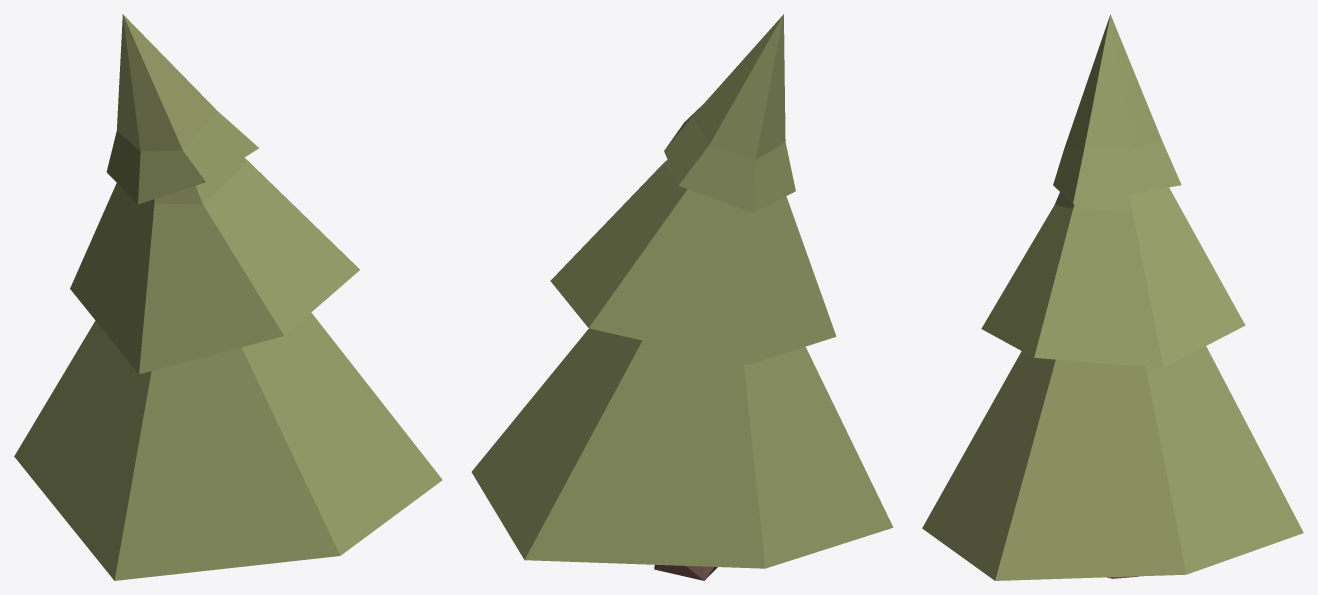
The model's file is spruce6.fbx.
3 views of the same model, side by side, from view 1: azimuth 30°, elevation 25°; view 2: azimuth 150°, elevation 25°; view 3: azimuth 270°, elevation 25° (orthographic). The views are drawn at different scales.
Visible parts, largest first — view 1: Cone.003; view 2: Cone.003; view 3: Cone.003.
Part boxes in pixels (x1,y1,x2,y2): Cone.003: [14, 14, 442, 580]; Cone.003: [471, 14, 893, 580]; Cone.003: [922, 14, 1303, 580].
Size of the model in its own units: 569 by 947 by 637.
Materials: 1 (1 with a texture image).
